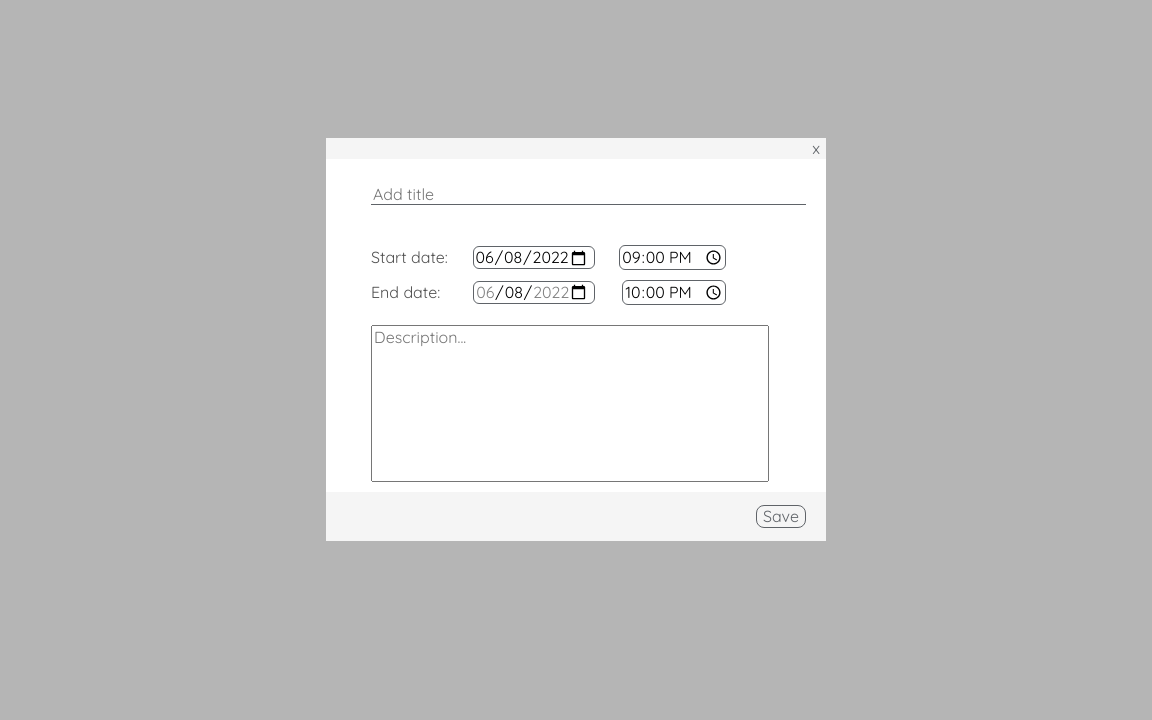
eventCreationModal › should show title error
This screenshot has width=1152, height=720.
Click the button with id "save-event" at point(781, 517), box [756,505,806,528]
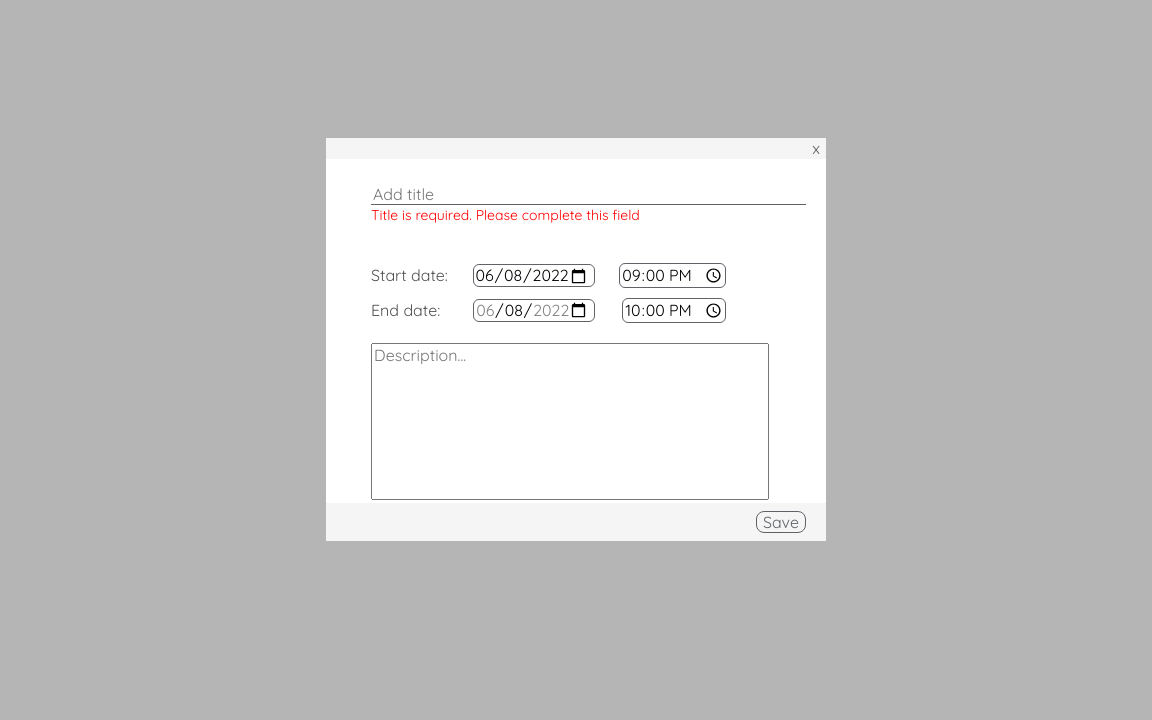
Expected: the text "Title is required. Please complete this field" is shown, [371,206,640,224]
